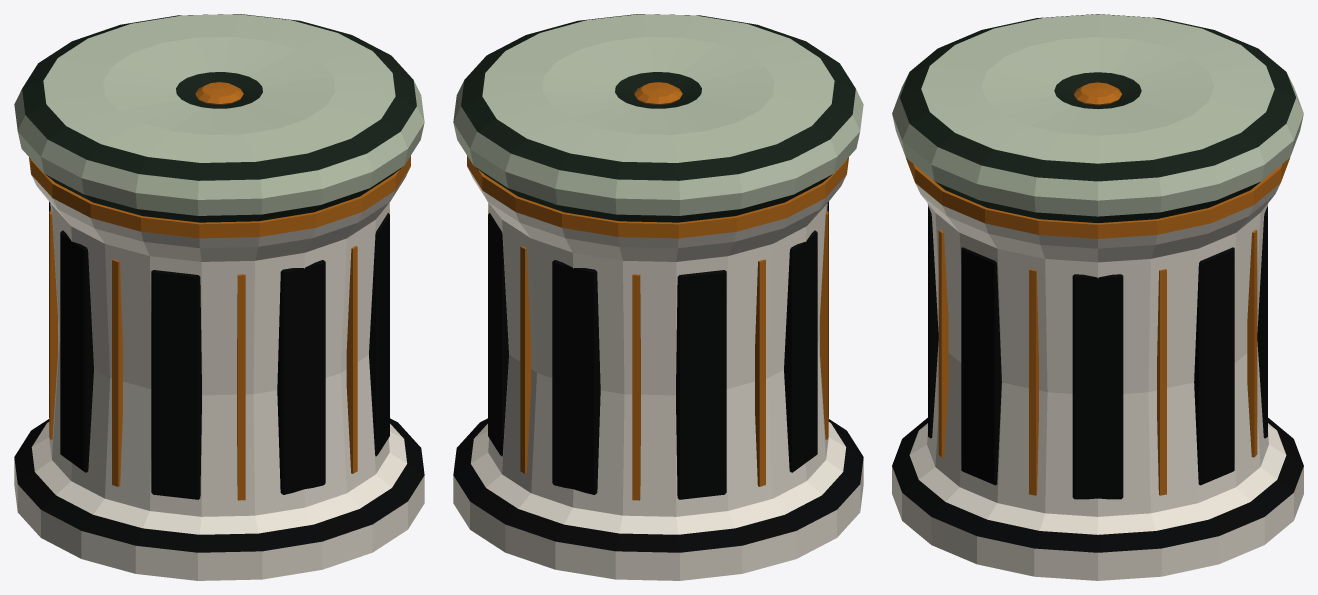
File: cozy_chess_round_chair.obj
3 renders of one model, left to right at view 1: azimuth 30°, elevation 25°; view 2: azimuth 150°, elevation 25°; view 3: azimuth 270°, elevation 25°, orthographic.
Parts seen in each view (by area): view 1: Chess_Round_Chair_Mesh; view 2: Chess_Round_Chair_Mesh; view 3: Chess_Round_Chair_Mesh.
Part boxes in pixels (x1,y1,x2,y2): Chess_Round_Chair_Mesh: [14, 14, 424, 580]; Chess_Round_Chair_Mesh: [453, 14, 863, 580]; Chess_Round_Chair_Mesh: [892, 14, 1303, 580].
Bounding box in the file's own units: 0.424 × 0.463 × 0.424.
